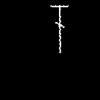double_crochet: (52, 5, 67, 51)
